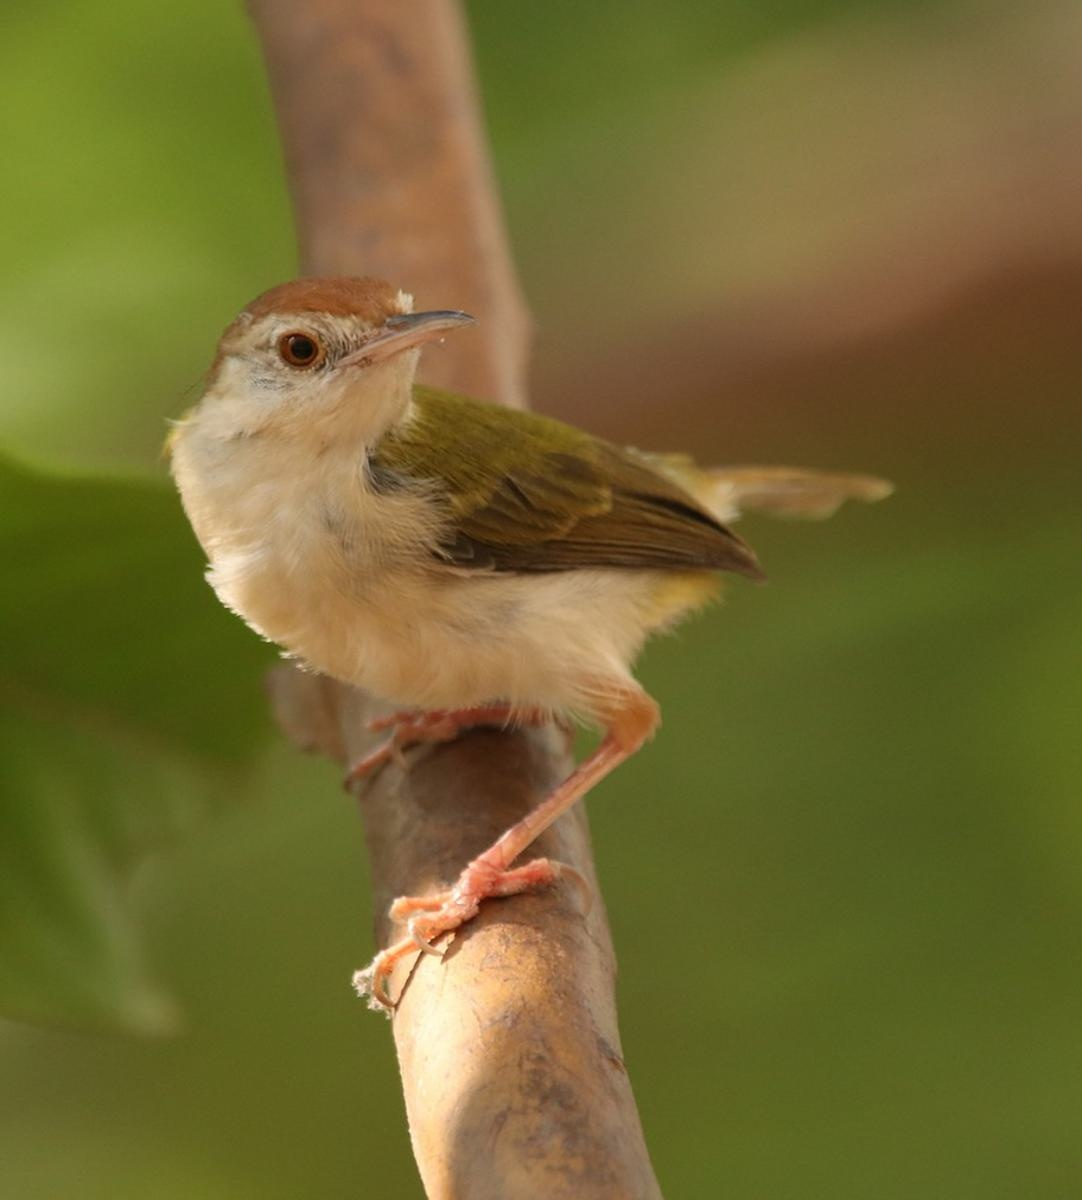tailorbird: (160, 250, 828, 870)
